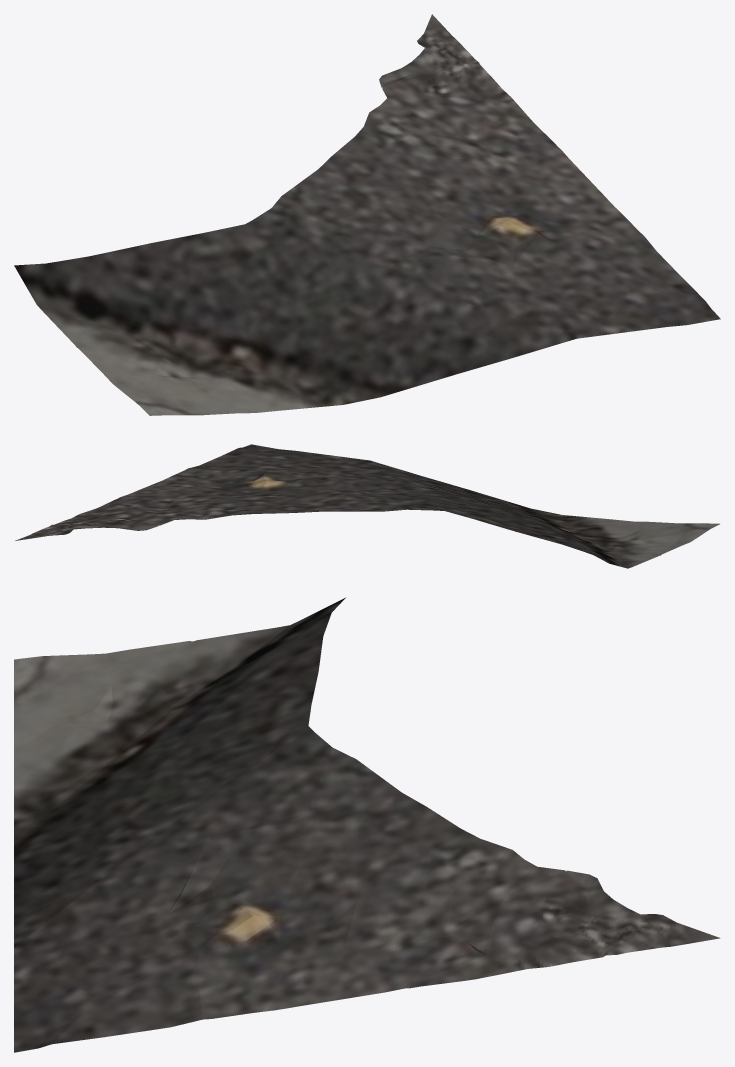
3 renders of one model, top to bottom at view 1: azimuth 30°, elevation 25°; view 2: azimuth 150°, elevation 25°; view 3: azimuth 270°, elevation 25°, orthographic. The views are drawn at different scales.
Size of the model in its own units: 0.8374 by 0.1311 by 0.7335.
Materials: 1 (1 with a texture image).
